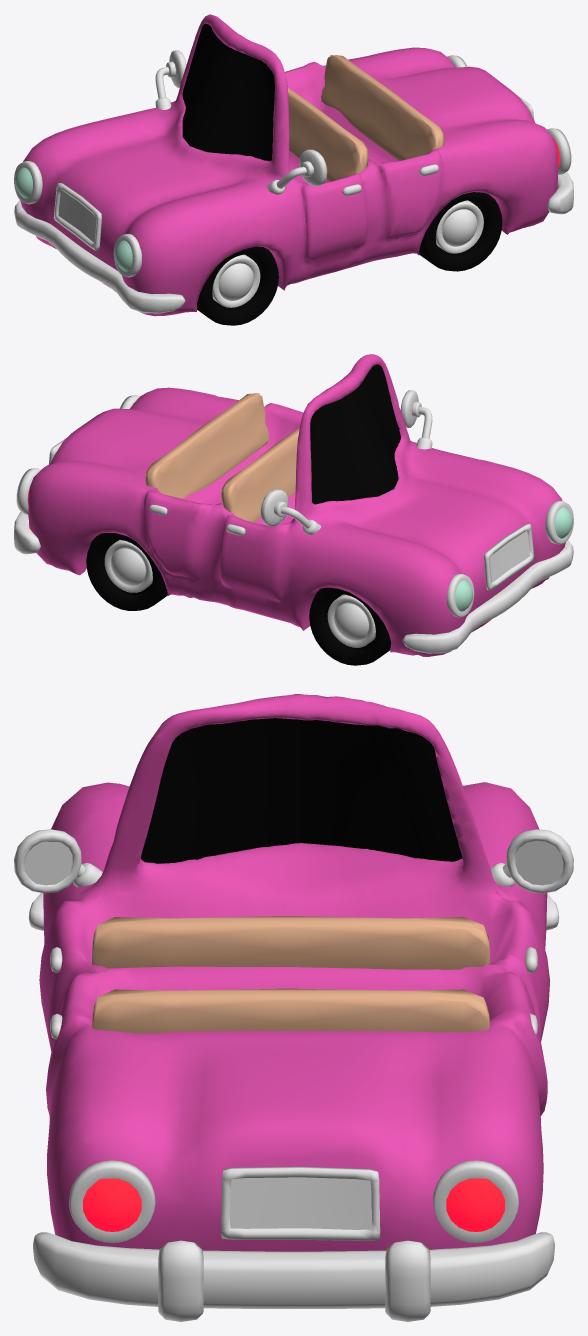
Rendered from cochesbienrosa.fbx.
3 renders of one model, top to bottom at view 1: azimuth 30°, elevation 25°; view 2: azimuth 150°, elevation 25°; view 3: azimuth 270°, elevation 25°, orthographic. The views are drawn at different scales.
Visible parts, largest first — view 1: Retopo_Cube.032, Cube.035, Cube.037, Circle.016, Circle.017, Cube.047, Cube.046, Circle.020, Cube.045, Cube.044, Circle.021, Cube.021 (+2 smaller); view 2: Retopo_Cube.032, Cube.035, Cube.037, Circle.025, Circle.024, Cube.047, Cube.046, Circle.020, Cube.045, Cube.044, Circle.021, Cube.021 (+2 smaller); view 3: Retopo_Cube.032, Cube.037, Cube.035, Cube.021, Cube.040, Cube.043, Circle.018, Circle.019, Cube.039, Cube.046, Circle.023, Circle.022 (+3 smaller).
Part boxes in pixels (bbox=[...]): Retopo_Cube.032: bbox=[20, 14, 558, 316]; Cube.035: bbox=[287, 55, 444, 181]; Cube.037: bbox=[182, 23, 274, 161]; Circle.016: bbox=[419, 192, 502, 271]; Circle.017: bbox=[197, 246, 278, 325]; Cube.047: bbox=[14, 200, 185, 313]; Cube.046: bbox=[166, 50, 327, 186]; Circle.020: bbox=[14, 161, 141, 277]; Cube.045: bbox=[58, 190, 96, 242]; Cube.044: bbox=[54, 182, 101, 250]; Circle.021: bbox=[15, 167, 132, 271]; Cube.021: bbox=[547, 172, 573, 214]; Retopo_Cube.032: bbox=[28, 354, 565, 656]; Cube.035: bbox=[145, 393, 299, 522]; Cube.037: bbox=[310, 364, 400, 504]; Circle.025: bbox=[309, 587, 391, 665]; Circle.024: bbox=[86, 533, 167, 610]; Cube.047: bbox=[402, 540, 573, 653]; Cube.046: bbox=[260, 390, 421, 526]; Circle.020: bbox=[446, 501, 573, 617]; Cube.045: bbox=[490, 531, 529, 582]; Cube.044: bbox=[484, 524, 534, 590]; Circle.021: bbox=[455, 507, 572, 611]; Cube.021: bbox=[14, 512, 40, 554]; Retopo_Cube.032: bbox=[39, 694, 549, 1251]; Cube.037: bbox=[141, 718, 462, 863]; Cube.035: bbox=[92, 916, 489, 1033]; Cube.021: bbox=[33, 1232, 554, 1308]; Cube.040: bbox=[230, 1177, 371, 1229]; Cube.043: bbox=[158, 1240, 430, 1321]; Circle.018: bbox=[69, 1160, 518, 1242]; Circle.019: bbox=[83, 1178, 504, 1231]; Cube.039: bbox=[221, 1166, 380, 1240]; Cube.046: bbox=[14, 829, 573, 893]; Circle.023: bbox=[515, 841, 563, 885]; Circle.022: bbox=[24, 841, 72, 885].
Size of the model in its own units: 490 by 236 by 281.
